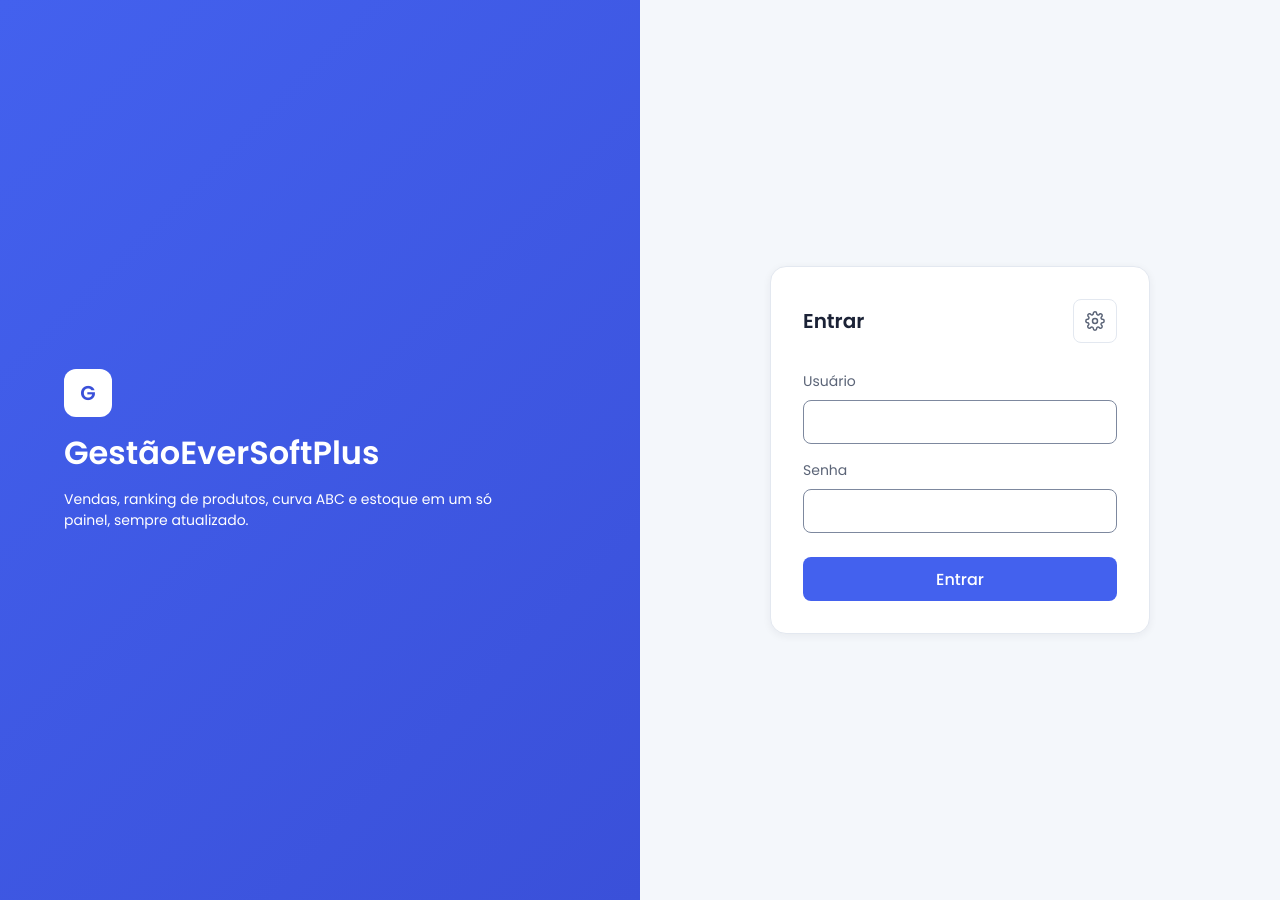
Test: LoginPage › o botão Configurações abre e fecha o painel do Servidor, fechado por padrão
Expected: the field labelled "Servidor" is not shown
Click the button named "Configurações" at (1095, 321), box [1073,299,1117,343]
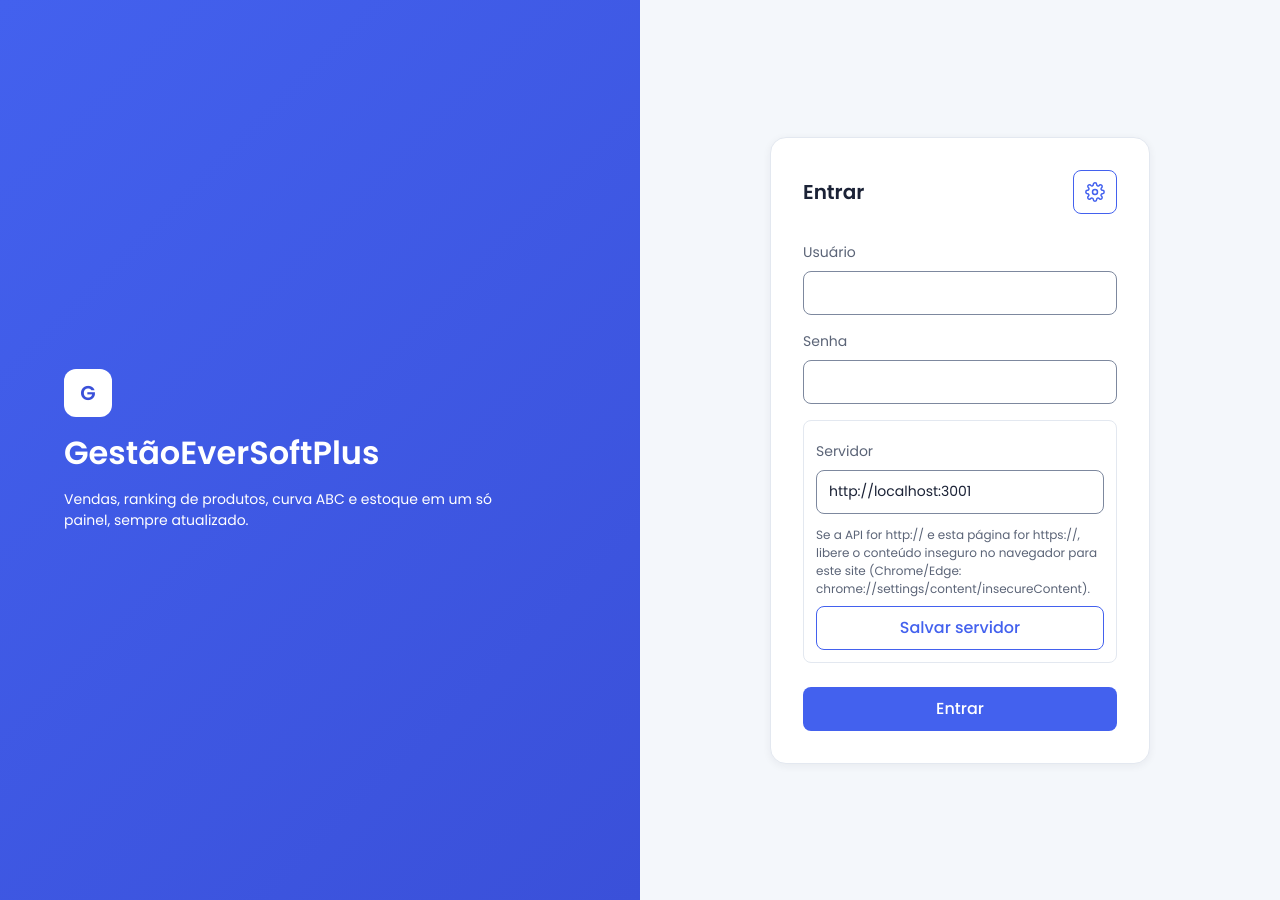
Expected: the button named "Configurações" is expanded
Expected: the field labelled "Servidor" is shown, [816,470,1104,514]
Click the button named "Configurações" at (1095, 192), box [1073,170,1117,214]
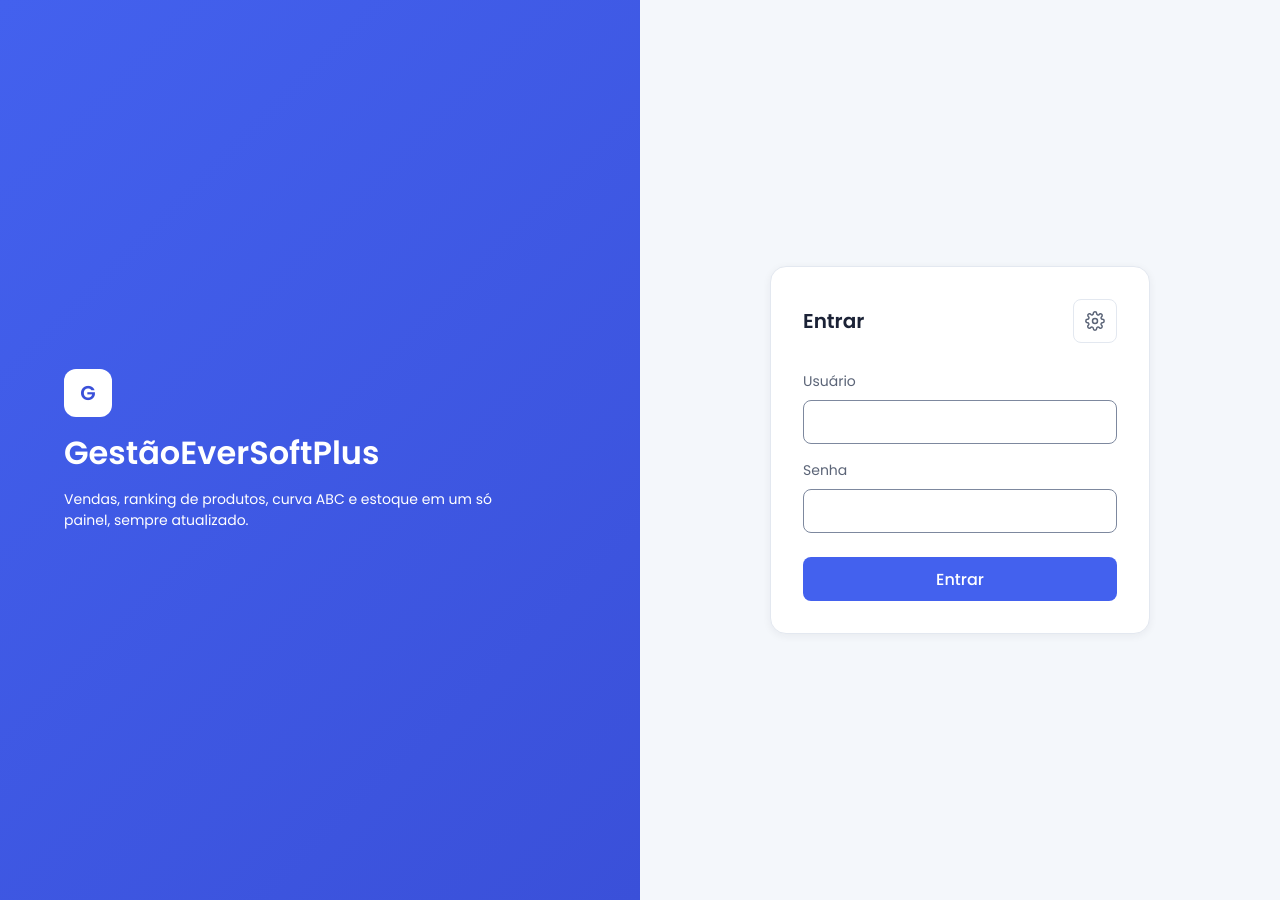
Expected: the label labelled "Servidor" is gone
